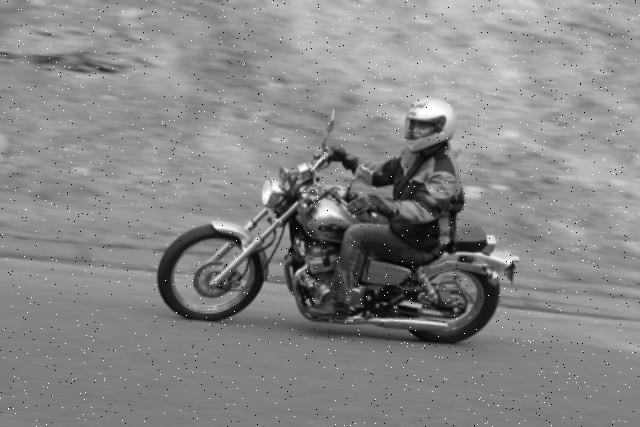With Helmet: (403, 96, 462, 148)
